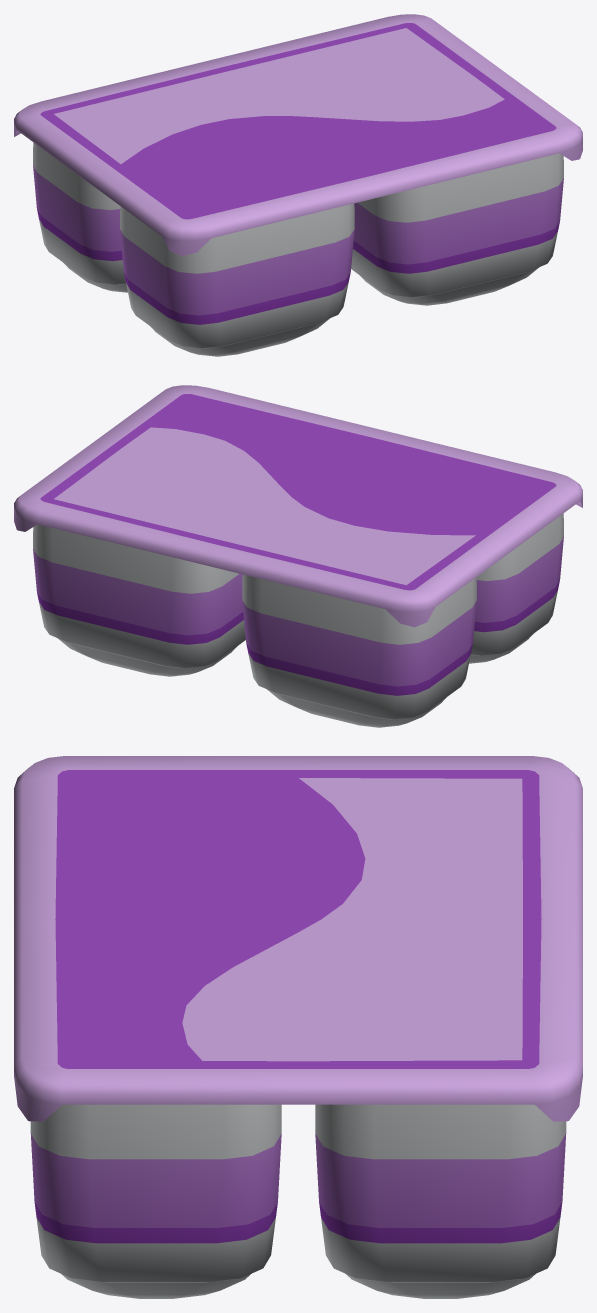
Rendered from yogurt_010.fbx.
3 renders of one model, top to bottom at view 1: azimuth 30°, elevation 25°; view 2: azimuth 150°, elevation 25°; view 3: azimuth 270°, elevation 25°, orthographic. The views are drawn at different scales.
Parts seen in each view (by area): view 1: yogurt_010; view 2: yogurt_010; view 3: yogurt_010.
Boxes of the visible parts, x1,y1,x2,y2 form: yogurt_010: (14,14,582,356); yogurt_010: (14,385,582,727); yogurt_010: (14,756,582,1298).
Bounding box in the file's own units: 14.33 × 10.31 × 4.98.
